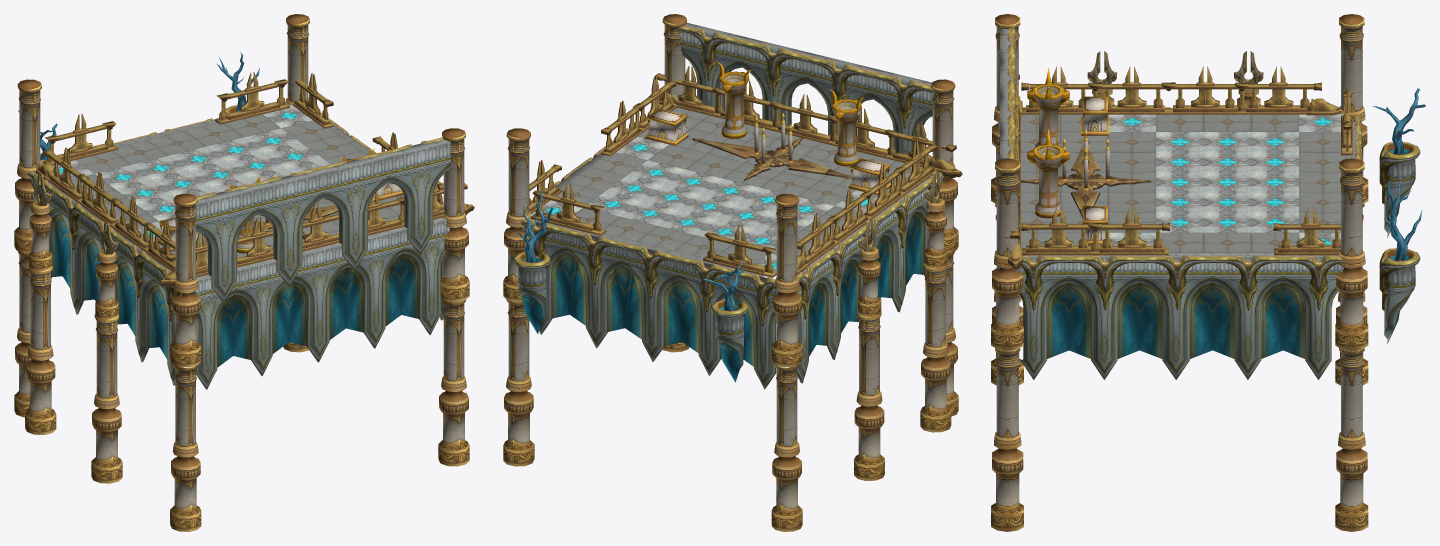
File: Cell2LD_RU.fbx
3 renders of one model, left to right at view 1: azimuth 30°, elevation 25°; view 2: azimuth 150°, elevation 25°; view 3: azimuth 270°, elevation 25°, orthographic. The views are drawn at different scales.
Parts seen in each view (by area): view 1: Cell2LD; view 2: Cell2LD; view 3: Cell2LD.
Boxes of the visible parts, bbox=[...] form: Cell2LD: bbox=[14, 14, 474, 531]; Cell2LD: bbox=[503, 14, 962, 531]; Cell2LD: bbox=[991, 14, 1425, 531].
Size of the model in its own units: 23.1 by 21.14 by 23.09.
